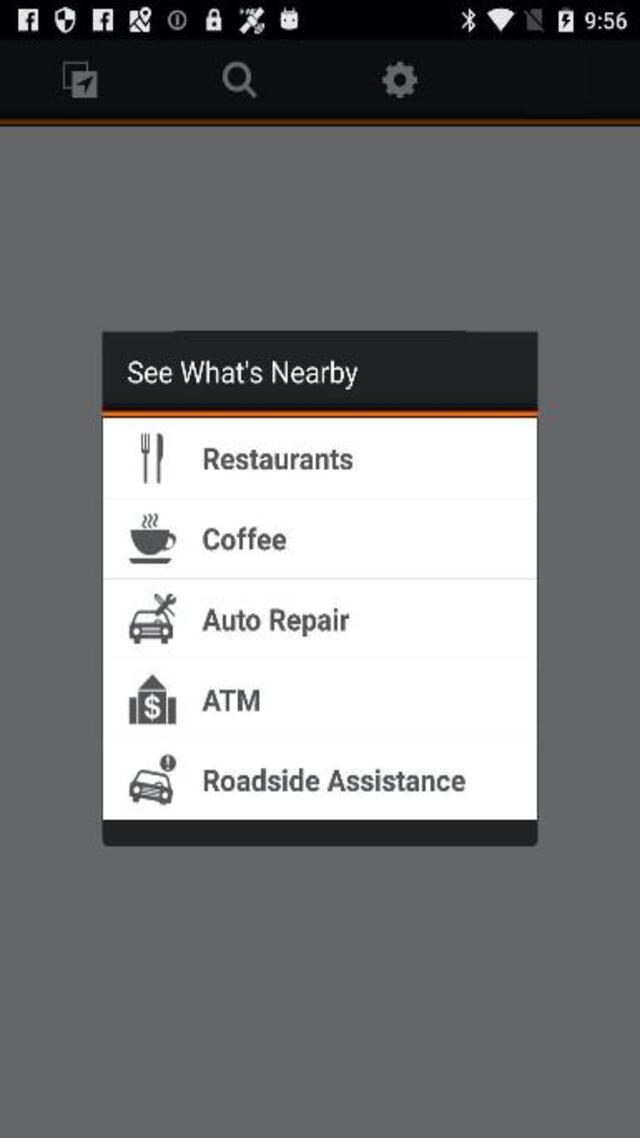Icon: (129, 514, 177, 564), (130, 754, 177, 804), (130, 674, 177, 724), (130, 594, 177, 644), (222, 62, 257, 99), (382, 62, 416, 99), (142, 432, 164, 482)
Image: (62, 62, 98, 99)
Text: (127, 360, 358, 390), (202, 768, 466, 790), (202, 609, 350, 636), (202, 447, 352, 470), (205, 528, 288, 550), (202, 690, 260, 711)
